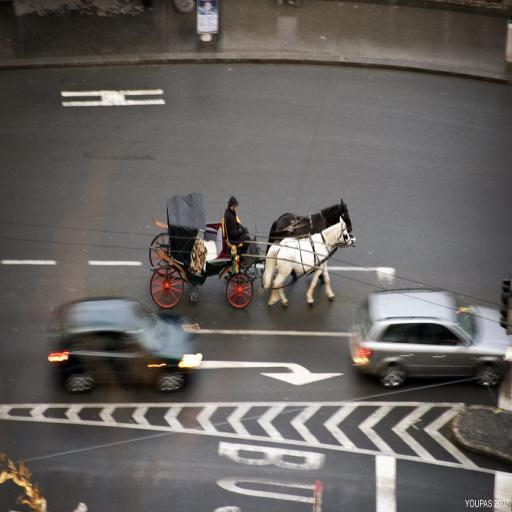Horse: (264, 197, 354, 282)
